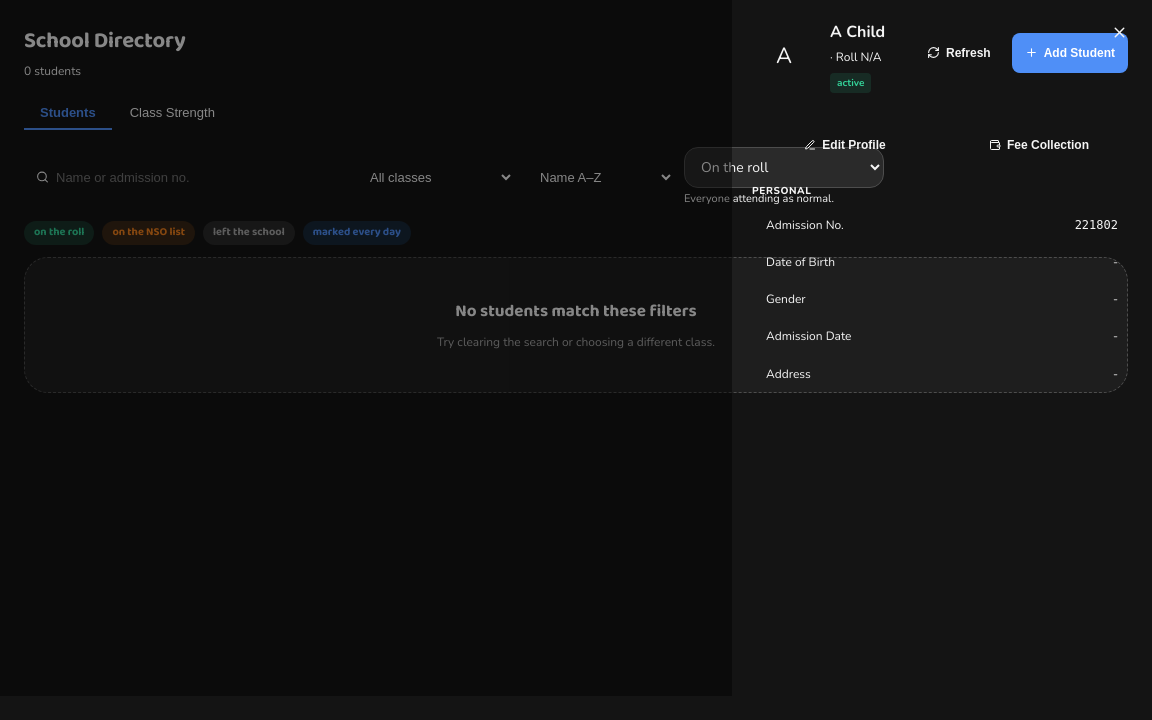
clicking Fee Collection opens the panel with this student's totals and history
The image size is (1152, 720).
Step 1. Click the button "Fee Collection" → (1039, 145), box 946,125 -> 1132,165
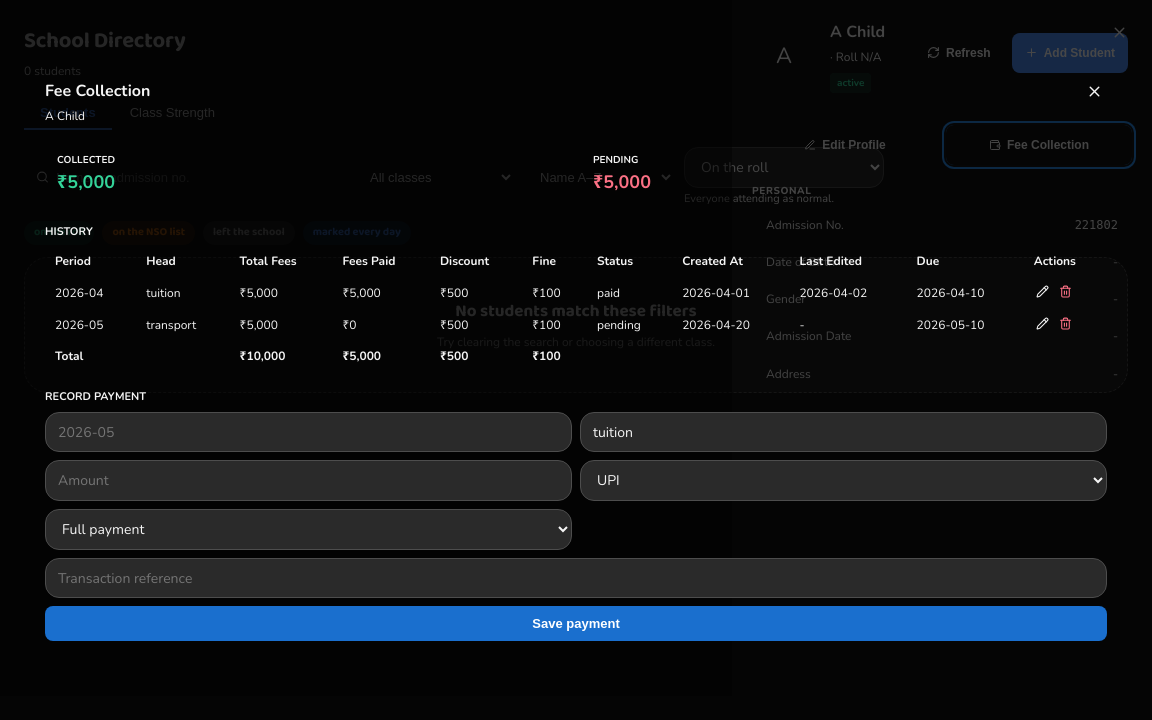
Now the element with test id "student-fee-panel" is shown
Now the text with test id "fee-panel-collected-total" reads "₹5,000", box 57,170 -> 115,194
Now the text with test id "fee-panel-pending-total" reads "₹5,000", box 593,170 -> 651,194
